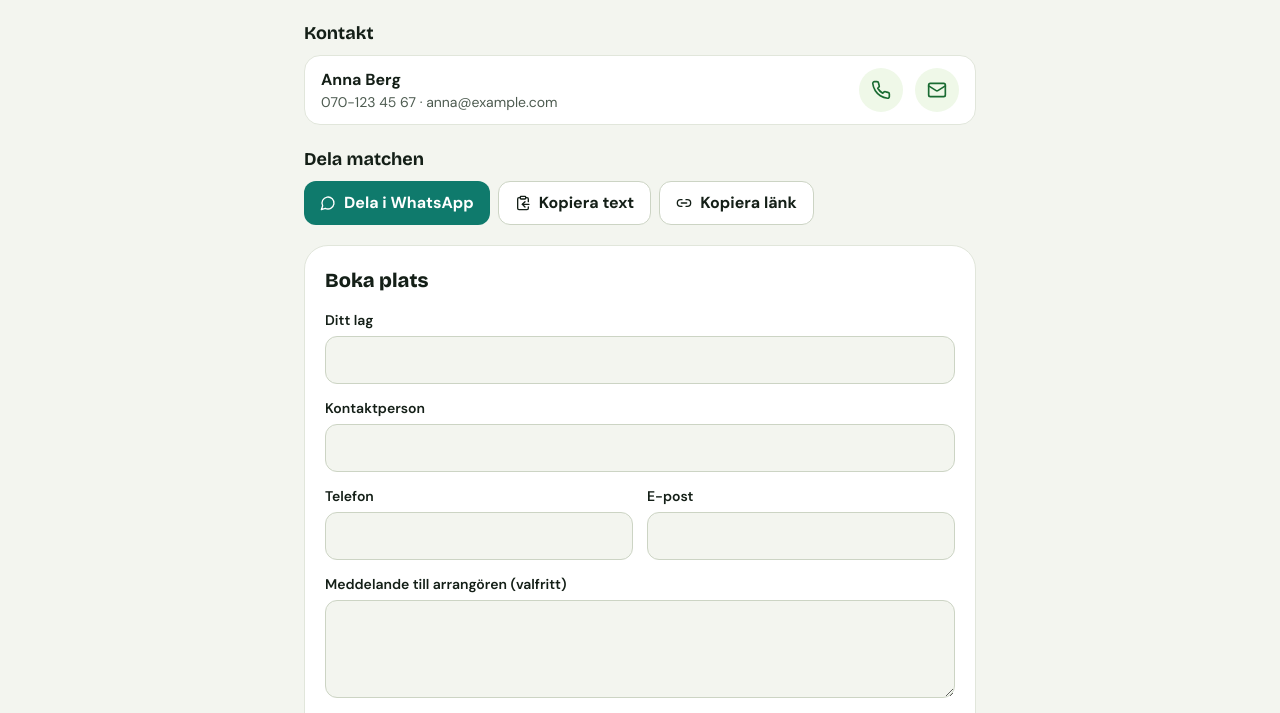
Scenario: PracticeMatchDetailPage › explains when the team has already booked the match
(page scrolled)
Type "ekens if f12" into the field labelled "Ditt lag".
click(640, 360); type("ekens if f12")  # box 325,336 -> 955,384
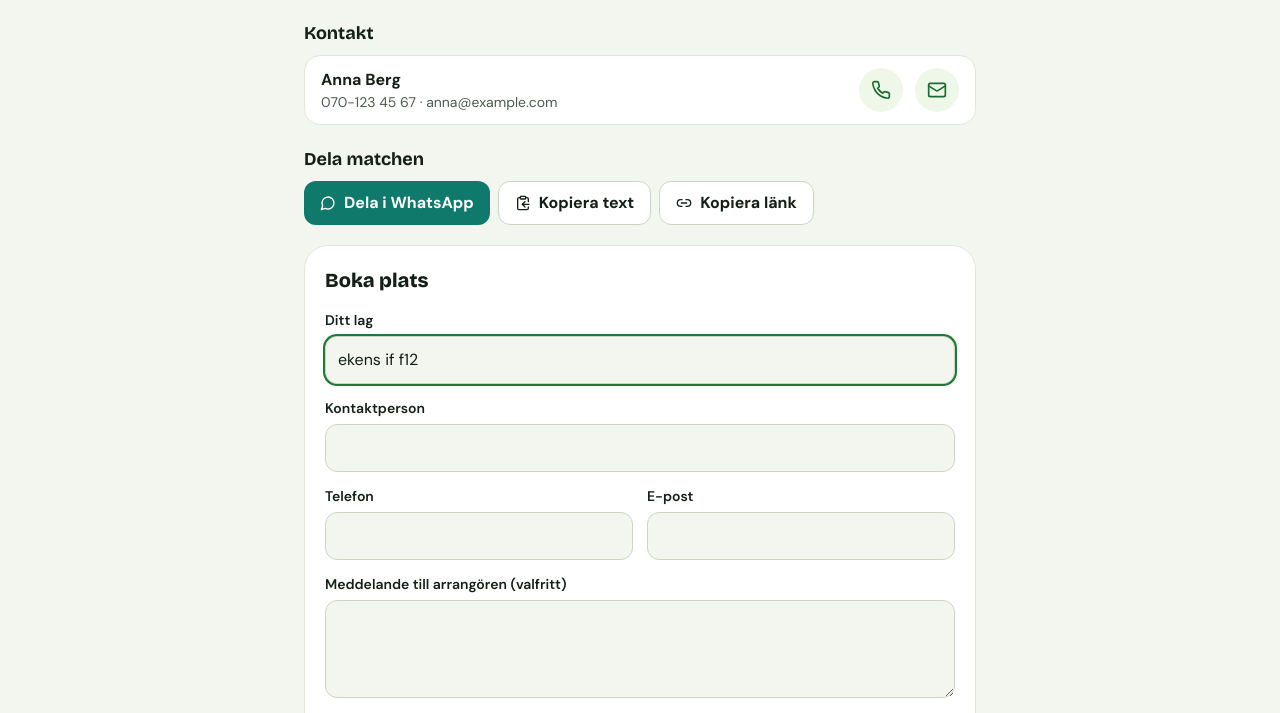
Type "Jonas Lind" into the field labelled "Kontaktperson".
click(640, 448); type("Jonas Lind")  # box 325,424 -> 955,472
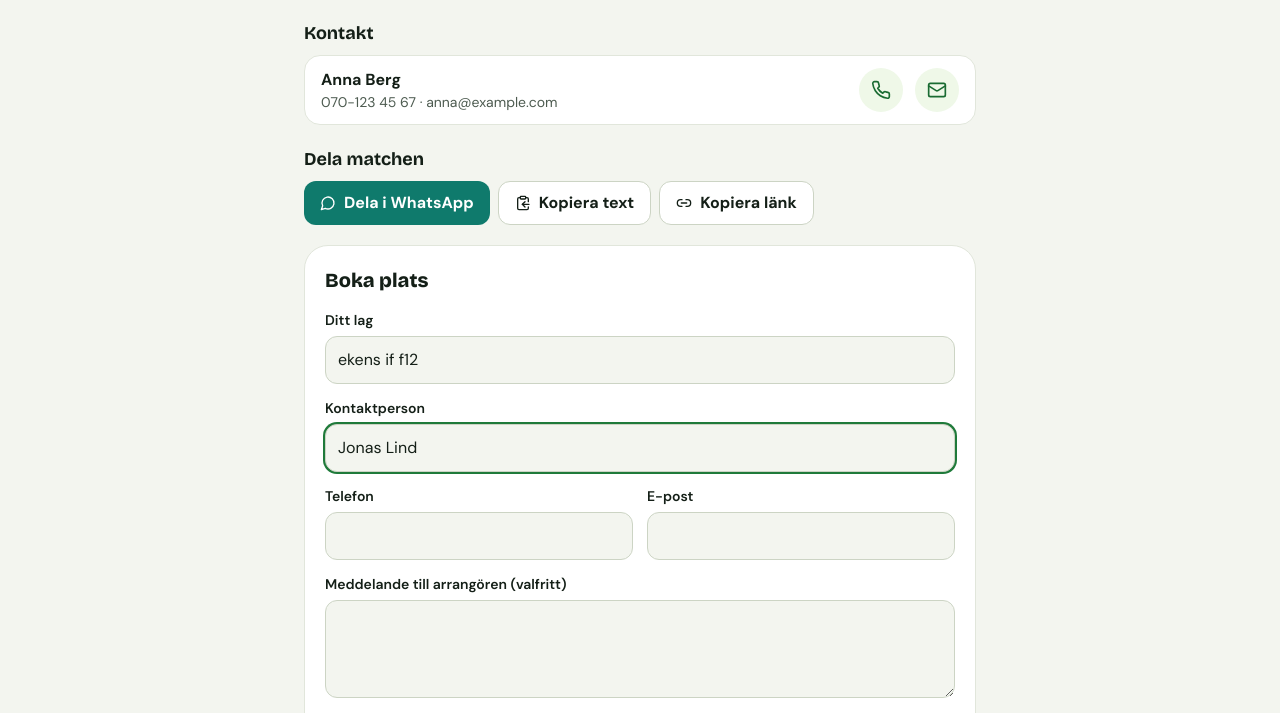
Type "070-765 43 21" into the field labelled "Telefon".
click(479, 536); type("070-765 43 21")  # box 325,512 -> 633,560
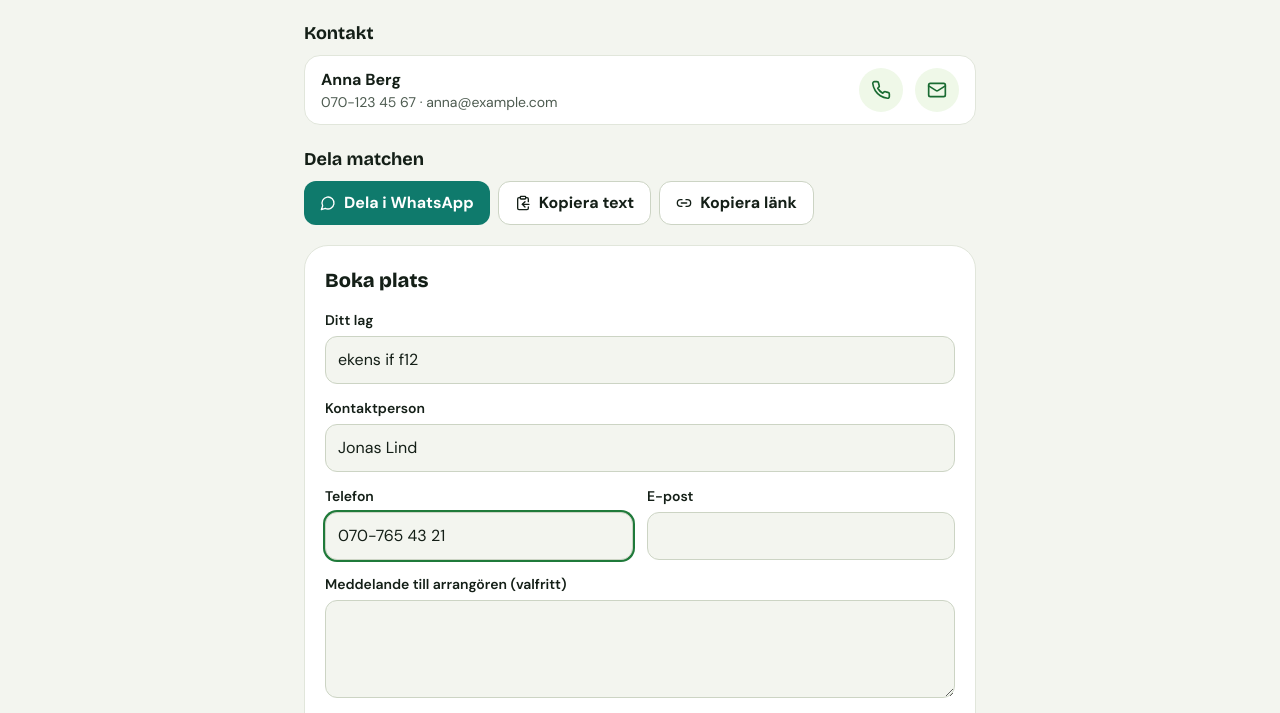
Type "jonas@example.com" into the field labelled "E-post".
click(801, 536); type("jonas@example.com")  # box 647,512 -> 955,560
(page scrolled)
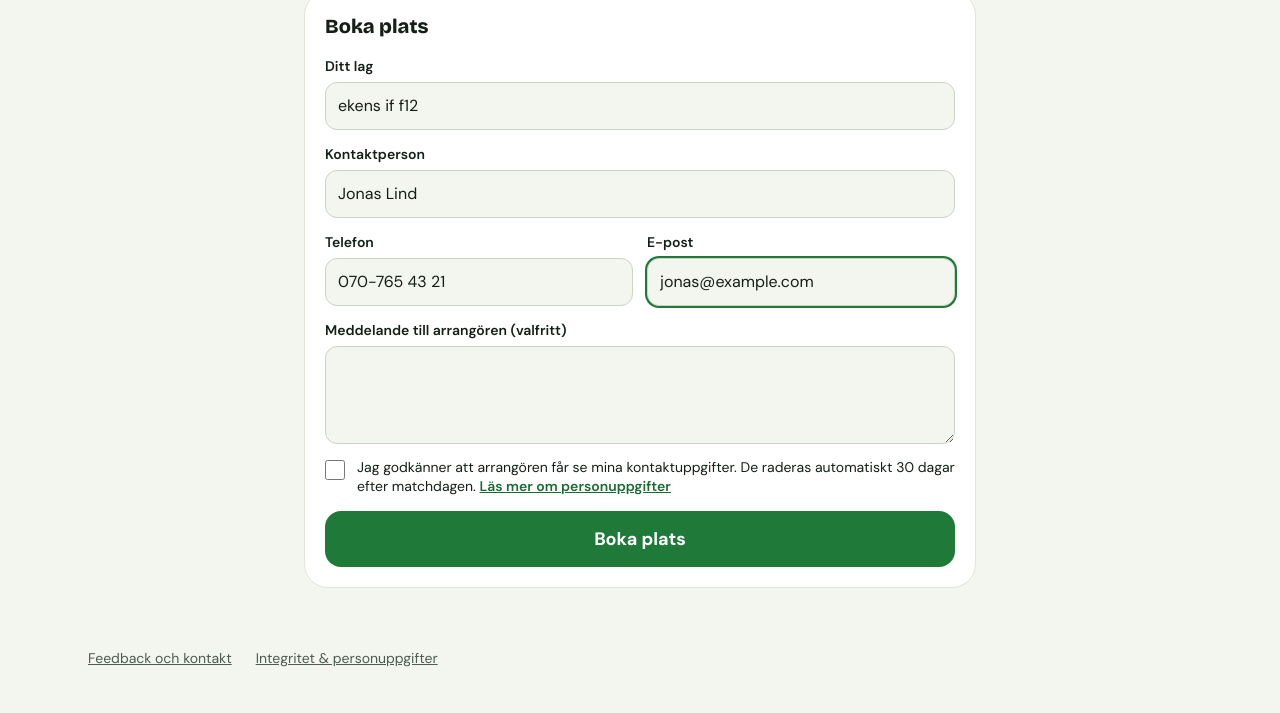
Click the checkbox labelled "arrangören får se".
click(335, 470)  # box 325,460 -> 345,480
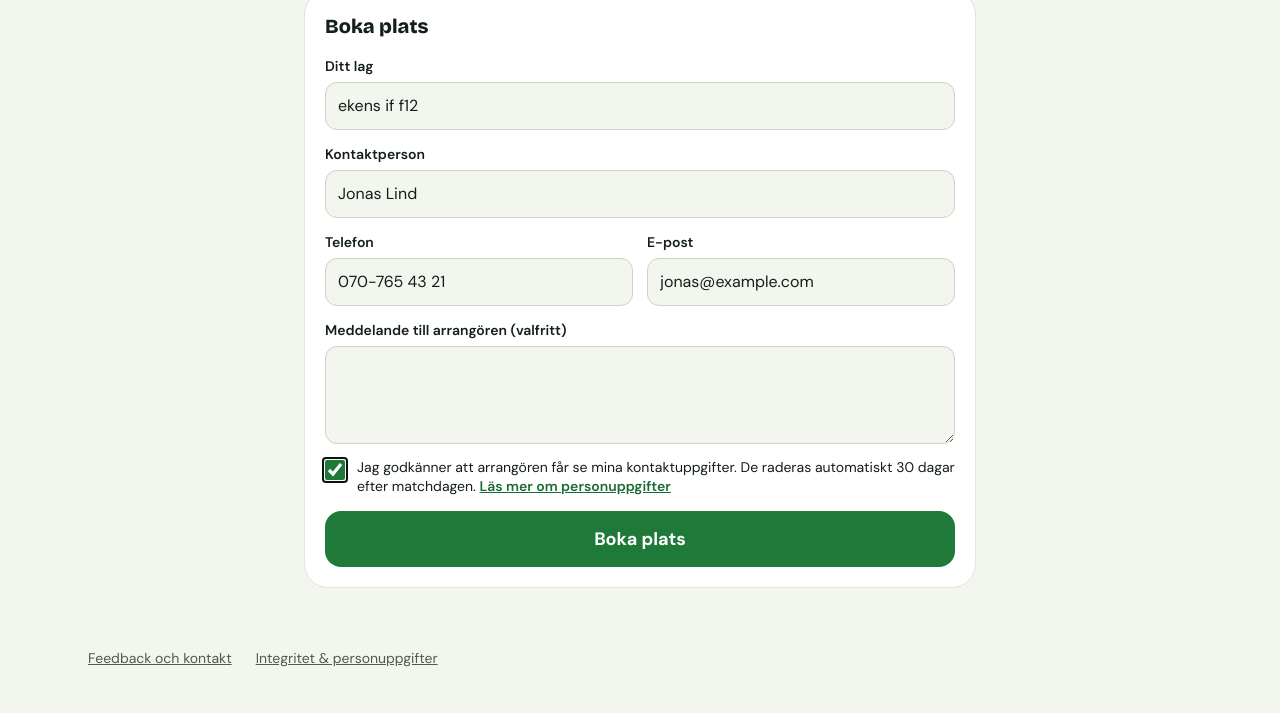
Click the submit button.
click(640, 538)  # box 325,510 -> 955,566
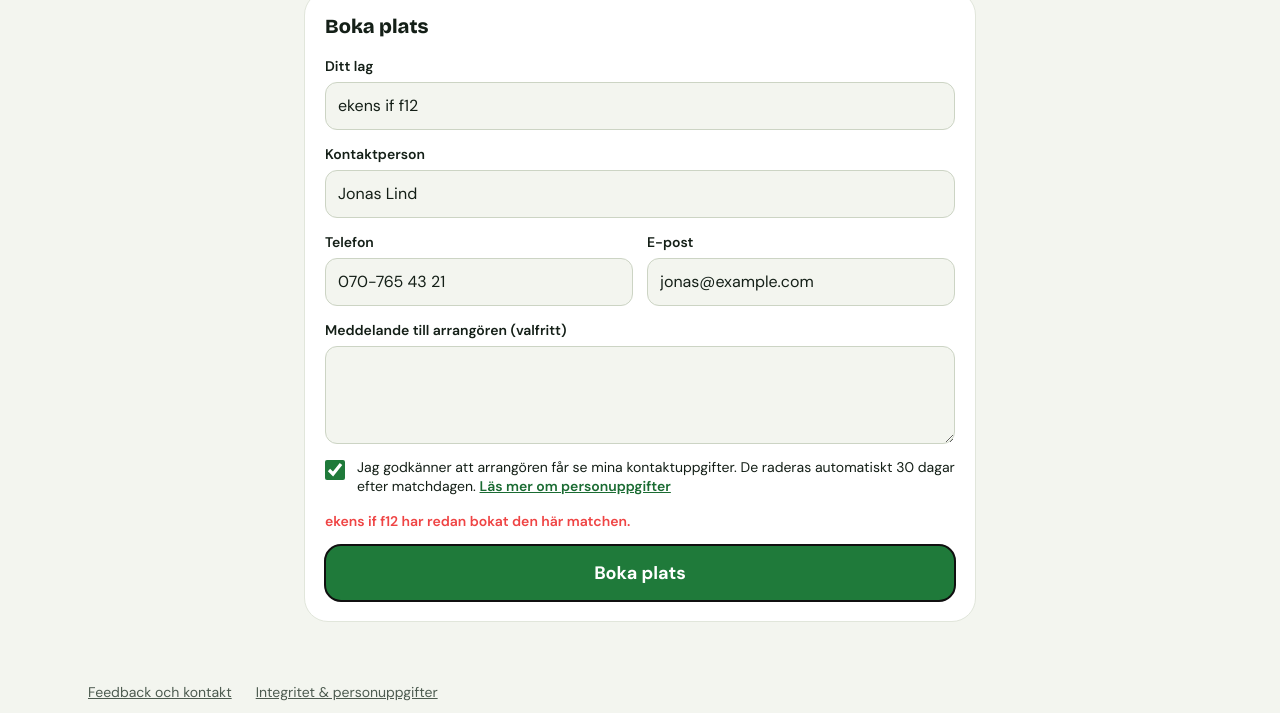
Now the text "ekens if f12 har redan bokat den här matchen." is shown, box 325,512 -> 630,530
